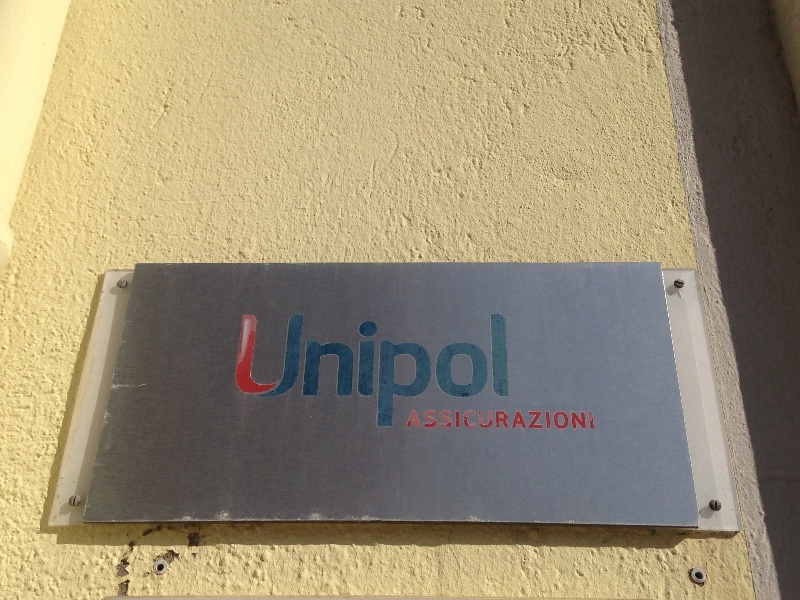text: (241, 312, 256, 468), (257, 312, 272, 468), (273, 312, 288, 468), (289, 312, 304, 468), (305, 312, 320, 468), (321, 312, 336, 468), (337, 312, 352, 468), (353, 312, 368, 468), (369, 312, 384, 468), (385, 312, 400, 468), (401, 312, 416, 468), (417, 312, 432, 468), (433, 312, 448, 468), (449, 312, 464, 468), (465, 312, 480, 468), (481, 312, 496, 468), (497, 312, 512, 468), (417, 409, 432, 430), (433, 409, 448, 430), (449, 409, 464, 430), (465, 409, 480, 430), (481, 409, 496, 430), (497, 409, 512, 430), (513, 409, 528, 430), (529, 409, 544, 430), (545, 409, 560, 430), (561, 409, 576, 430), (577, 409, 592, 430), (412, 409, 416, 430), (593, 409, 595, 430)
